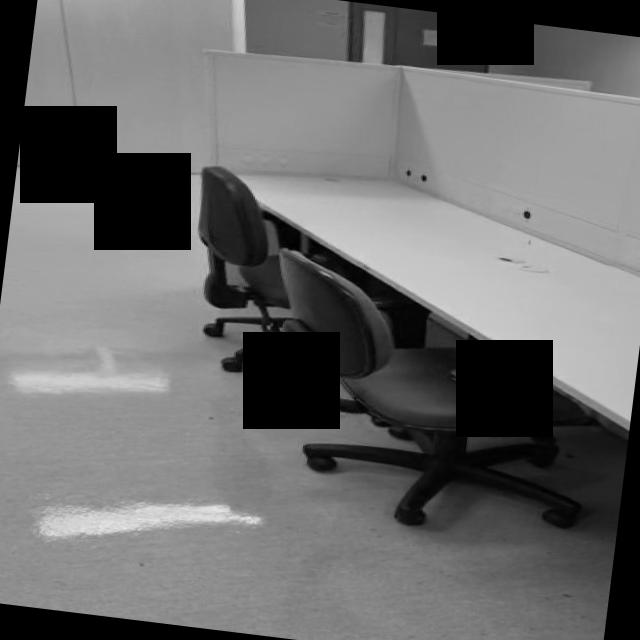cadeira-azul: (178, 162, 416, 392)
